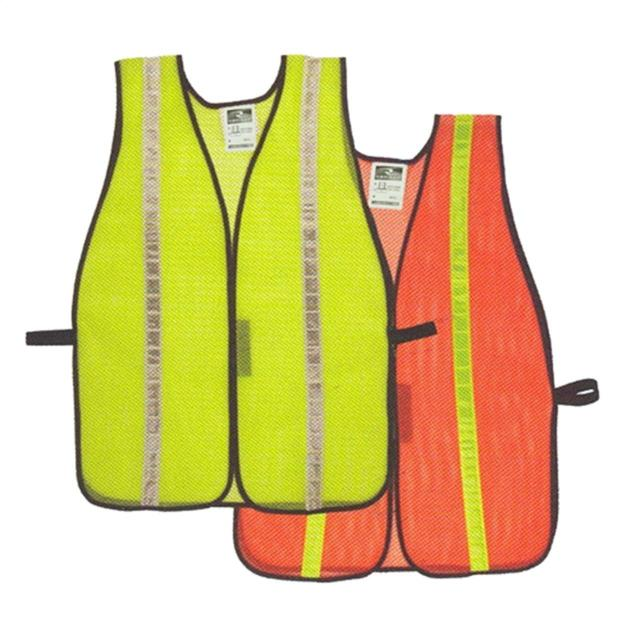Vest: (232, 111, 560, 576), (73, 53, 395, 512)
